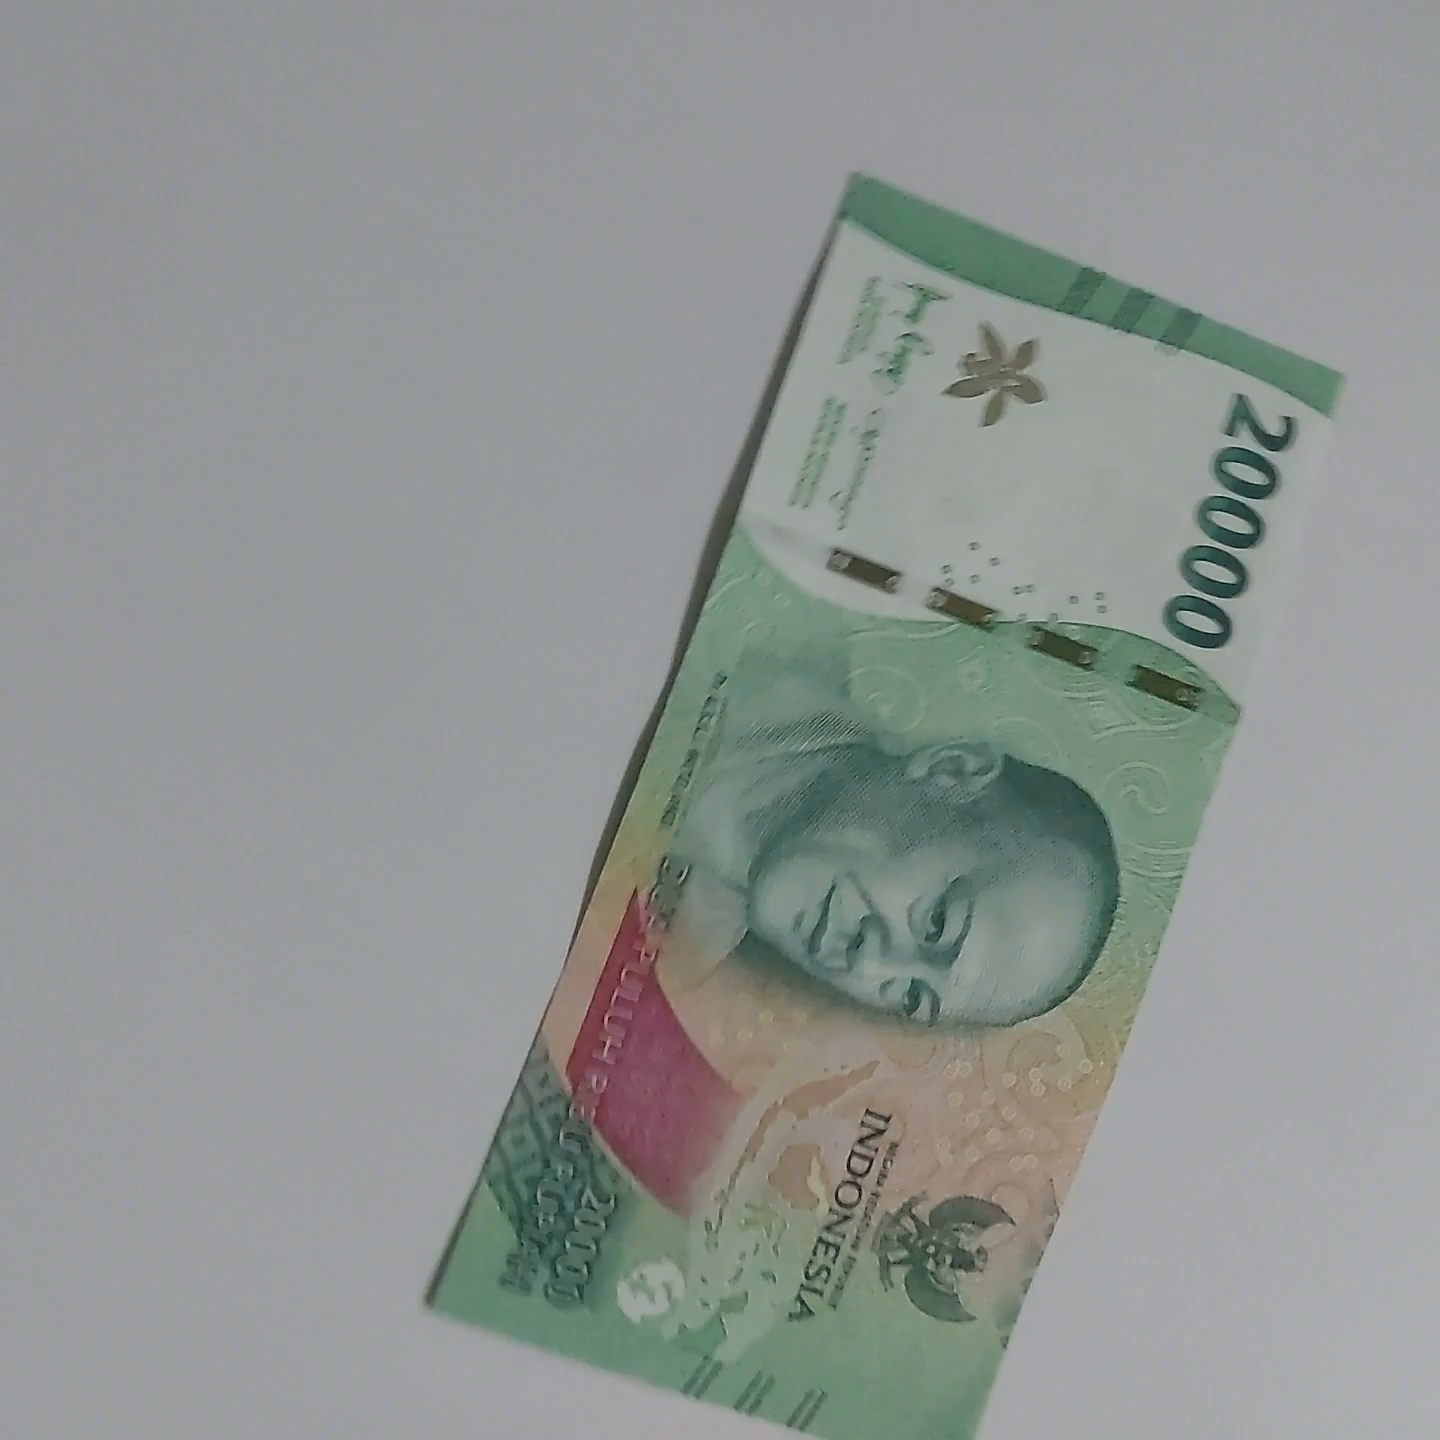20k: (429, 105, 1361, 1440)
